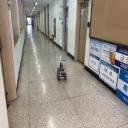cart: (56, 67, 68, 81)
